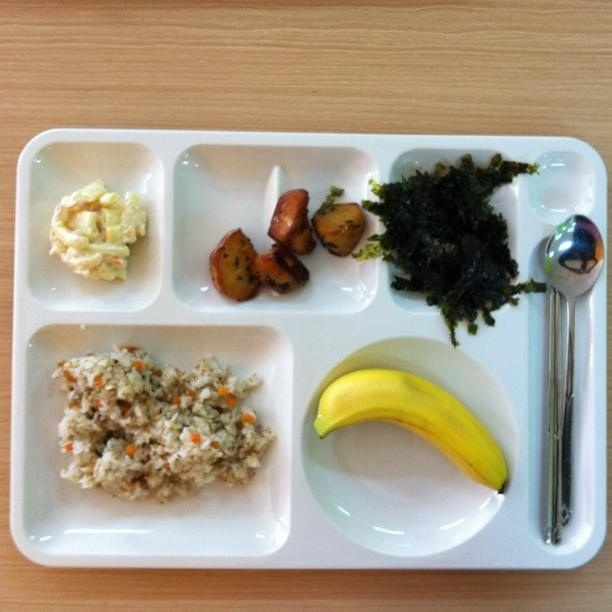bowl: (21, 326, 294, 558), (312, 328, 524, 608), (165, 120, 381, 340), (368, 124, 528, 360), (16, 134, 176, 319)
